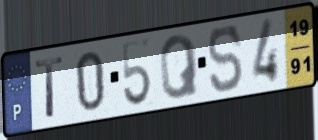0: (73, 49, 107, 114)
4: (250, 15, 282, 88)
5: (120, 35, 155, 110)
Q: (158, 32, 201, 102)
S: (206, 23, 245, 96)
T: (33, 54, 66, 121)
